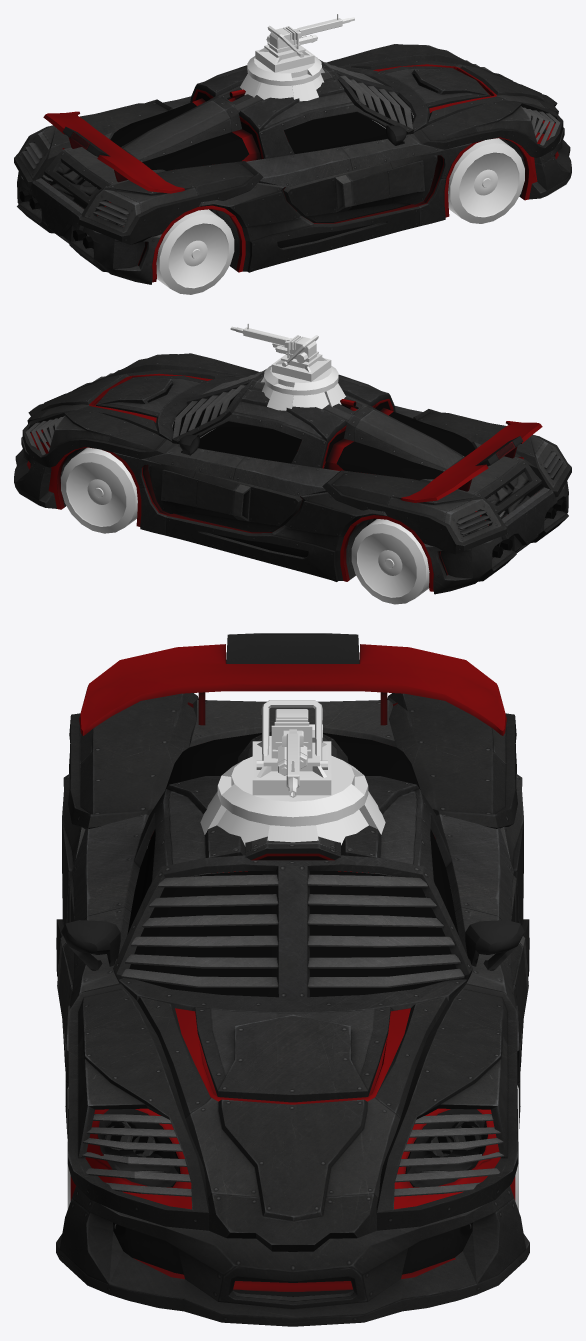
File: car_A1 (1).fbx
3 views of the same model, one above another, from view 1: azimuth 30°, elevation 25°; view 2: azimuth 150°, elevation 25°; view 3: azimuth 270°, elevation 25° (orthographic). The views are drawn at different scales.
Visible parts, largest first — view 1: Carrera_Main_Carrera_Main_MAT_0, CarreraWheels_hubcap_MAT_0.001, CarreraWheels_hubcap_MAT_0.003, Top_Turret_Front_Guns_Weapons:TurretGun_MAT_0; view 2: Carrera_Main_Carrera_Main_MAT_0, CarreraWheels_hubcap_MAT_0.002, CarreraWheels_hubcap_MAT_0.004, Top_Turret_Front_Guns_Weapons:TurretGun_MAT_0; view 3: Carrera_Main_Carrera_Main_MAT_0, Top_Turret_Front_Guns_Weapons:TurretGun_MAT_0.
Boxes of the visible parts, bbox=[...] form: Carrera_Main_Carrera_Main_MAT_0: bbox=[14, 44, 571, 284]; CarreraWheels_hubcap_MAT_0.001: bbox=[156, 209, 234, 294]; CarreraWheels_hubcap_MAT_0.003: bbox=[448, 138, 524, 223]; Top_Turret_Front_Guns_Weapons:TurretGun_MAT_0: bbox=[240, 14, 354, 101]; Carrera_Main_Carrera_Main_MAT_0: bbox=[14, 353, 571, 594]; CarreraWheels_hubcap_MAT_0.002: bbox=[61, 447, 137, 533]; CarreraWheels_hubcap_MAT_0.004: bbox=[351, 519, 429, 604]; Top_Turret_Front_Guns_Weapons:TurretGun_MAT_0: bbox=[230, 323, 345, 410]; Carrera_Main_Carrera_Main_MAT_0: bbox=[56, 633, 529, 1326]; Top_Turret_Front_Guns_Weapons:TurretGun_MAT_0: bbox=[200, 700, 385, 846].
Size of the model in its own units: 1844 by 671 by 752.
Materials: 4 (2 with a texture image).
